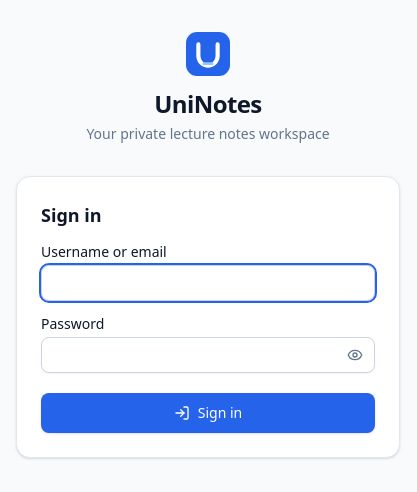
login and route guards › asks for a second factor when MFA is enabled
Type "student" into the field labelled "Username or email".
click(208, 283); type("student")  # box [41,265,375,301]
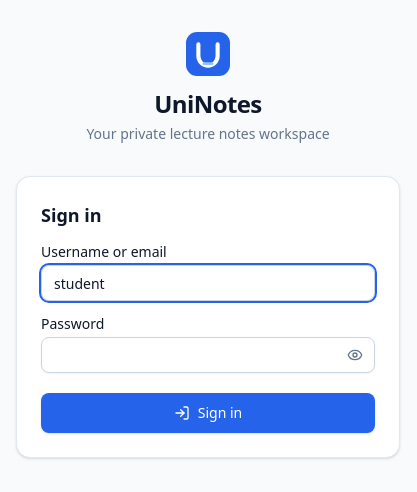
Type "pw" into the password field labelled "Password".
click(208, 355); type("pw")  # box [41,337,375,373]
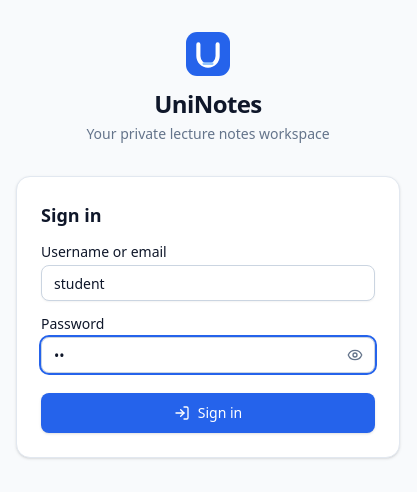
Click the button "Sign in".
click(208, 413)  # box [41,393,375,433]
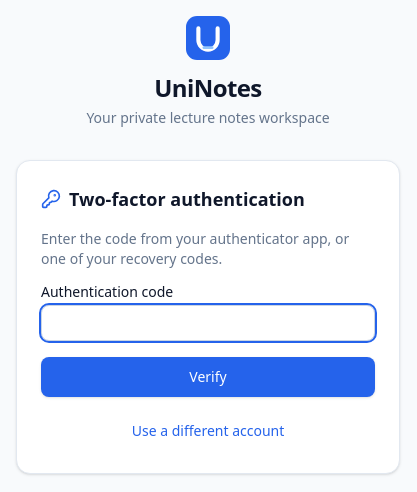
Now the heading "Two-factor authentication" is shown, box [69,185,305,213]
Now the field labelled "Authentication code" is shown, box [41,305,375,341]
